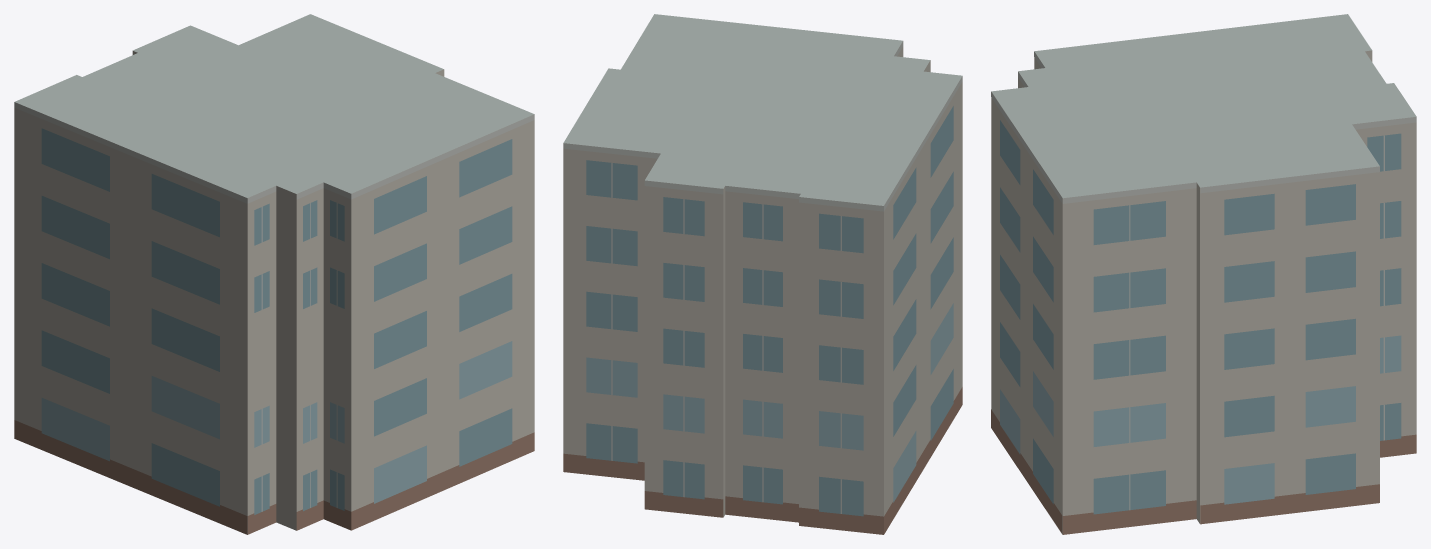
The model's file is survey-upis-32992617.glb.
3 views of the same model, side by side, from view 1: azimuth 30°, elevation 25°; view 2: azimuth 150°, elevation 25°; view 3: azimuth 270°, elevation 25° (orthographic). The views are drawn at different scales.
Parts seen in each view (by area): view 1: survey-upis-32992617.tmp; view 2: survey-upis-32992617.tmp; view 3: survey-upis-32992617.tmp.
Part boxes in pixels (<box>): survey-upis-32992617.tmp: <box>14,14,534,534</box>; survey-upis-32992617.tmp: <box>563,14,962,534</box>; survey-upis-32992617.tmp: <box>991,14,1416,534</box>.
Bounding box in the file's own units: 16.91 × 14.4 × 16.51.
